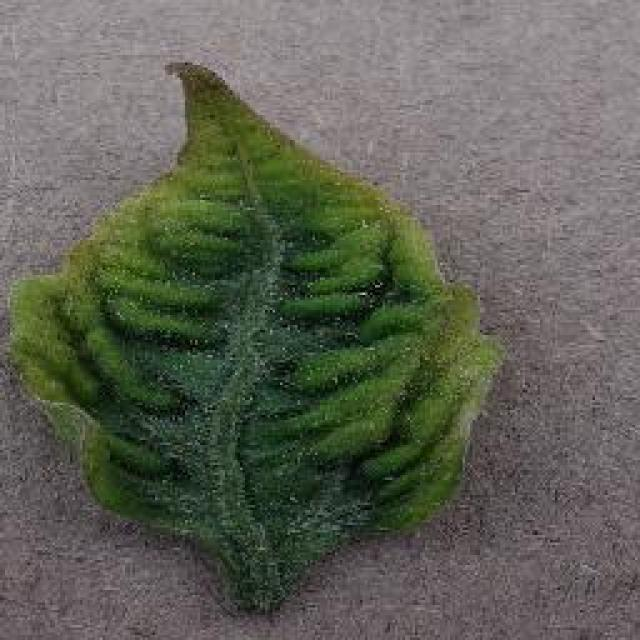Tom_Yellow_Leaf_Curl_Virus: (42, 120, 468, 549)
